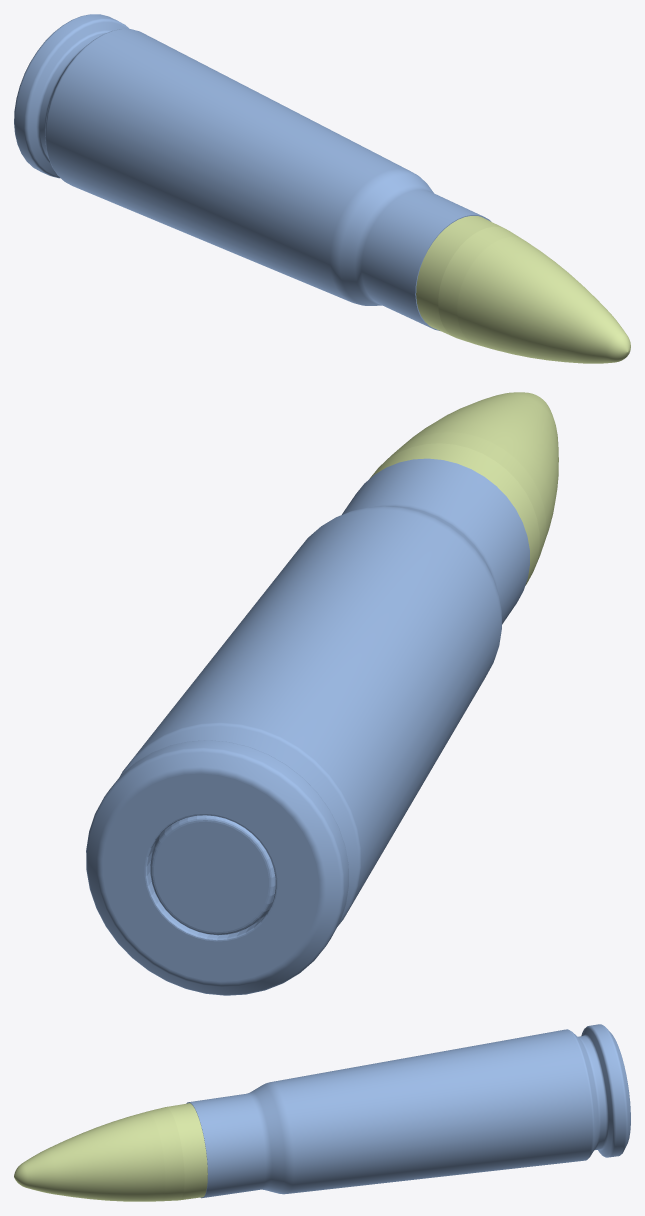
Rendered from bullet.obj.
3 views of the same model, one above another, from view 1: azimuth 30°, elevation 25°; view 2: azimuth 150°, elevation 25°; view 3: azimuth 270°, elevation 25° (orthographic). The views are drawn at different scales.
Visible parts, largest first — view 1: Line062, Line061; view 2: Line062, Line061; view 3: Line062, Line061.
Boxes of the visible parts, x1,y1,x2,y2 form: Line062: (14,14,491,330); Line061: (416,216,630,363); Line062: (86,458,529,995); Line061: (369,392,558,585); Line062: (186,1024,630,1198); Line061: (14,1103,207,1201).
Bounding box in the file's own units: 8.25 × 4.7 × 21.5.
